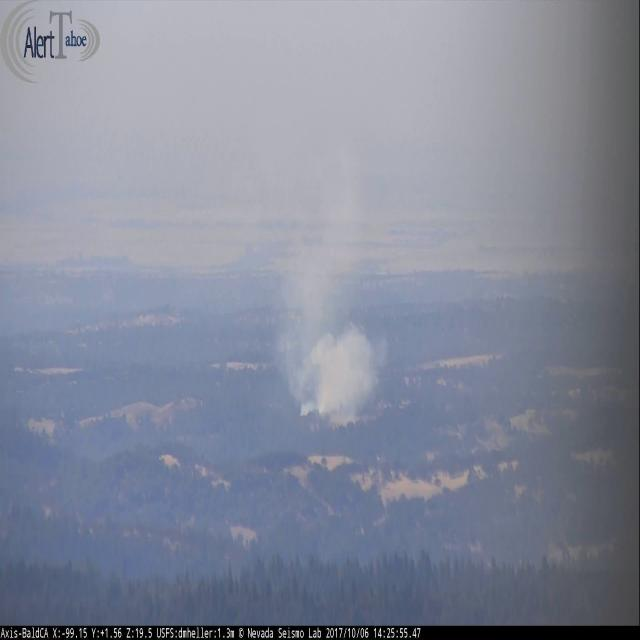smoke: (279, 246, 386, 420)
